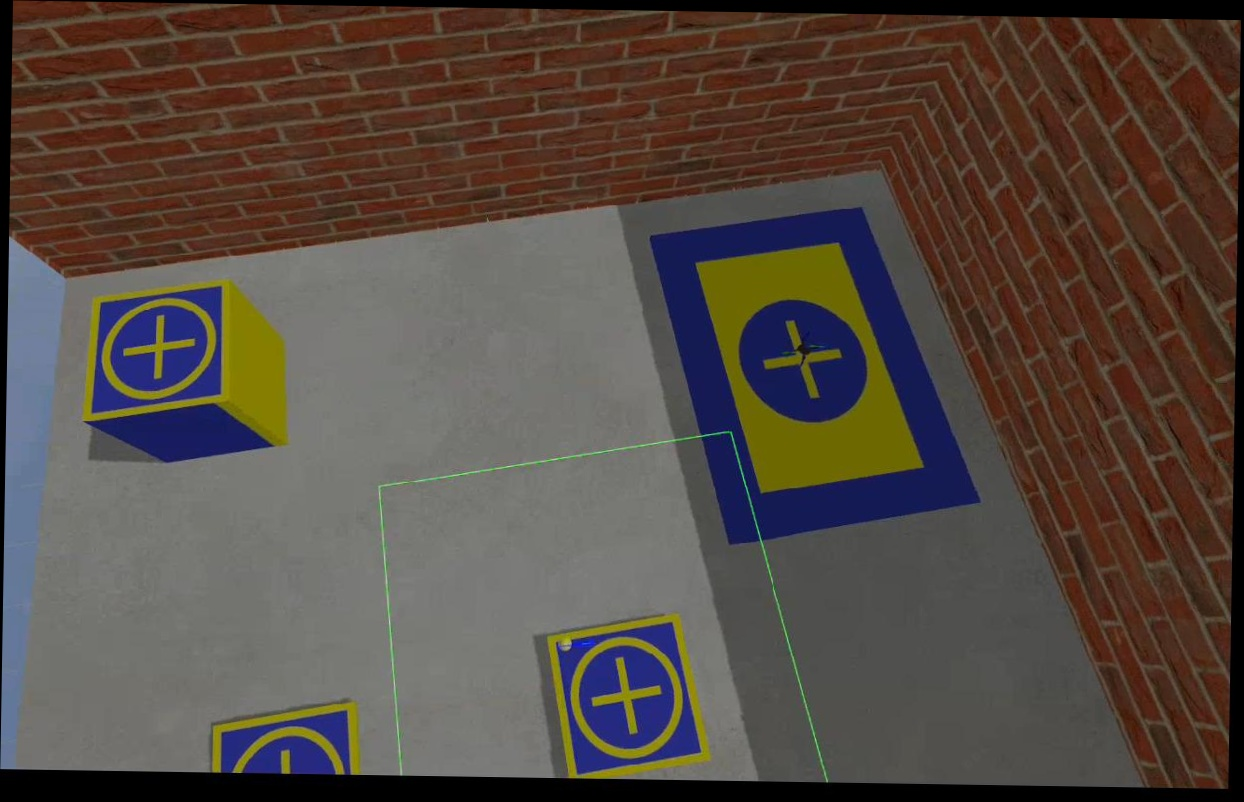large_base: (641, 203, 985, 544)
small_base: (544, 611, 714, 784), (79, 279, 238, 431), (212, 697, 365, 778)
